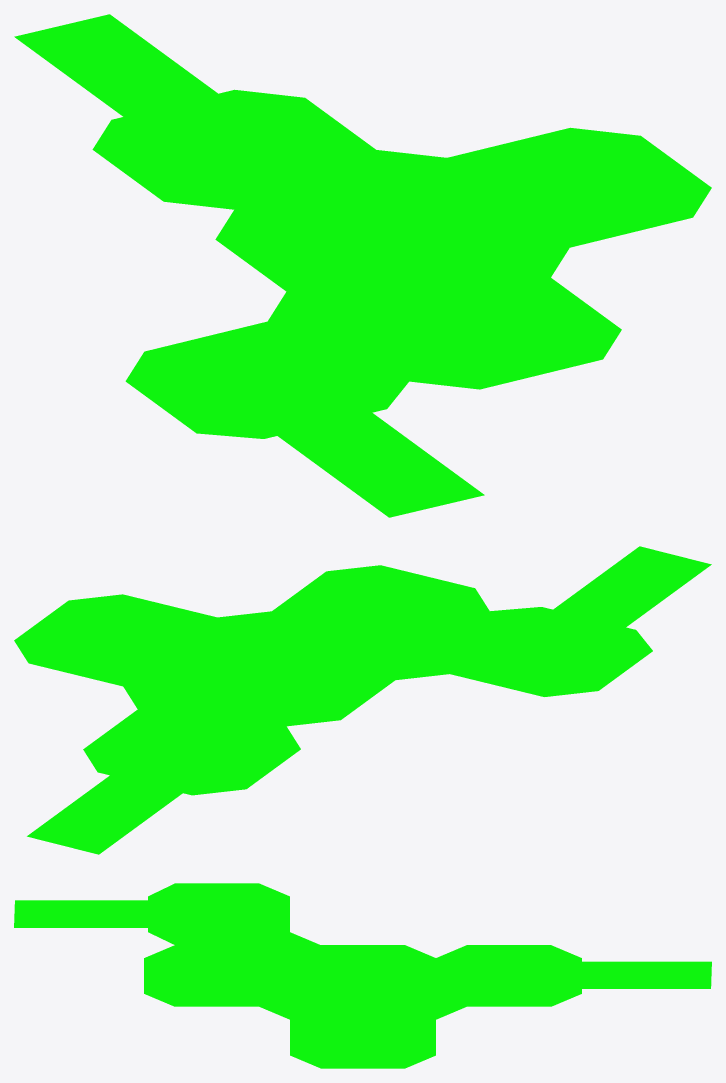
File: s02a_ic3-floor.glb
The picture shows the model from 3 angles, top to bottom: view 1: azimuth 30°, elevation 25°; view 2: azimuth 150°, elevation 25°; view 3: azimuth 270°, elevation 25°; orthographic projection. The views are drawn at different scales.
Parts seen in each view (by area): view 1: collision_floor-colonly; view 2: collision_floor-colonly; view 3: collision_floor-colonly.
Boxes of the visible parts, box(x1,y1,x2,y2) form: collision_floor-colonly: box(14, 14, 711, 517); collision_floor-colonly: box(14, 546, 711, 854); collision_floor-colonly: box(14, 883, 711, 1068).
Bounding box in the file's own units: 40.3 × 0 × 64.25.
